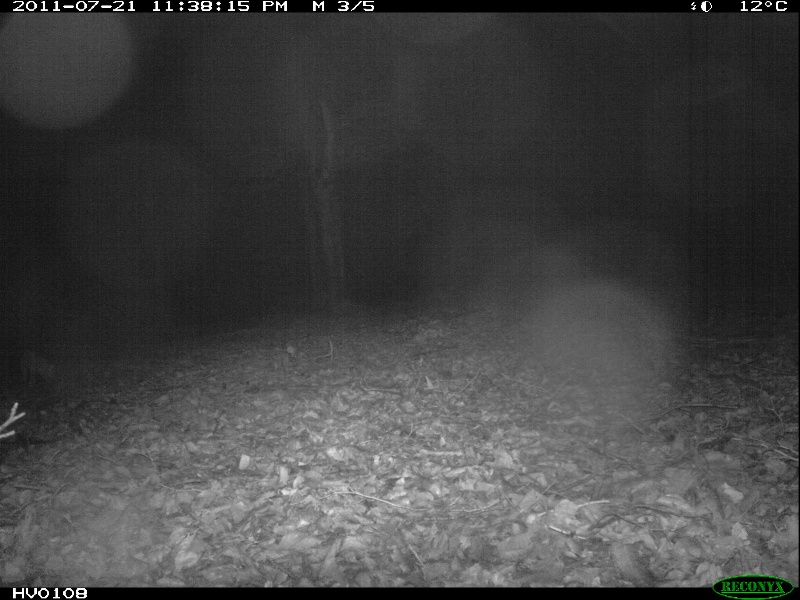fox: (12, 344, 54, 391)
